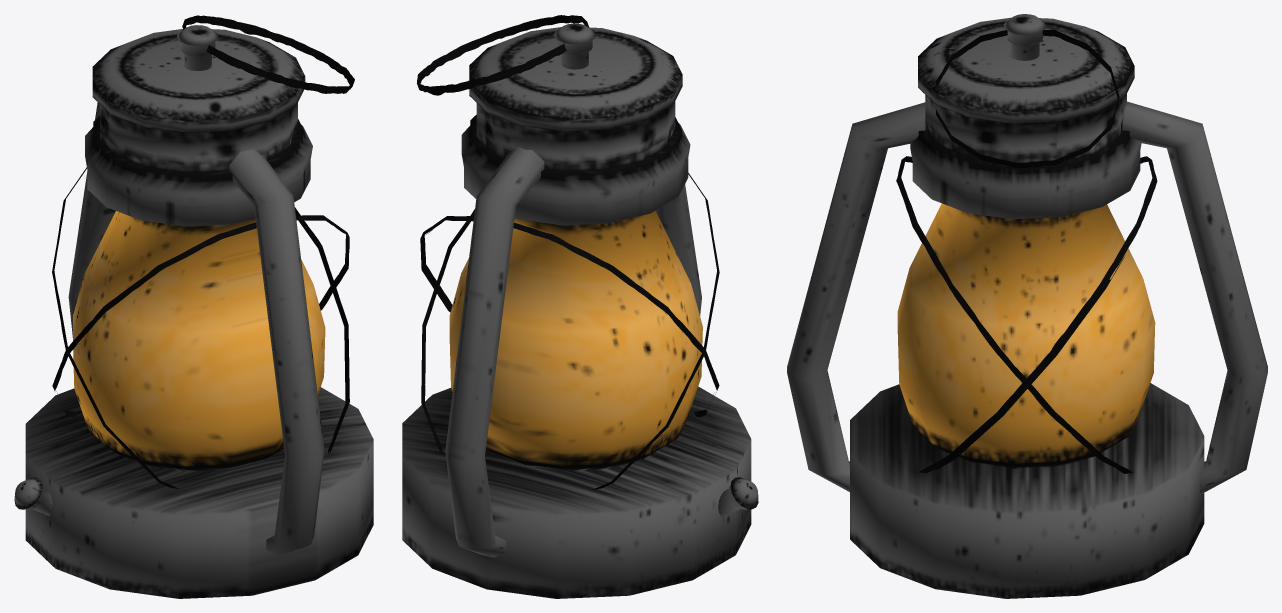
File: oldOilLamp.obj
3 renders of one model, left to right at view 1: azimuth 30°, elevation 25°; view 2: azimuth 150°, elevation 25°; view 3: azimuth 270°, elevation 25°, orthographic.
Parts seen in each view (by area): view 1: Cylinder; view 2: Cylinder; view 3: Cylinder.
Boxes of the visible parts, left/top/right/bottom form: Cylinder: left=14, top=15, right=373, bottom=598; Cylinder: left=402, top=15, right=758, bottom=598; Cylinder: left=787, top=14, right=1267, bottom=598.
Size of the model in its own units: 2.18 by 3.1 by 2.68.
